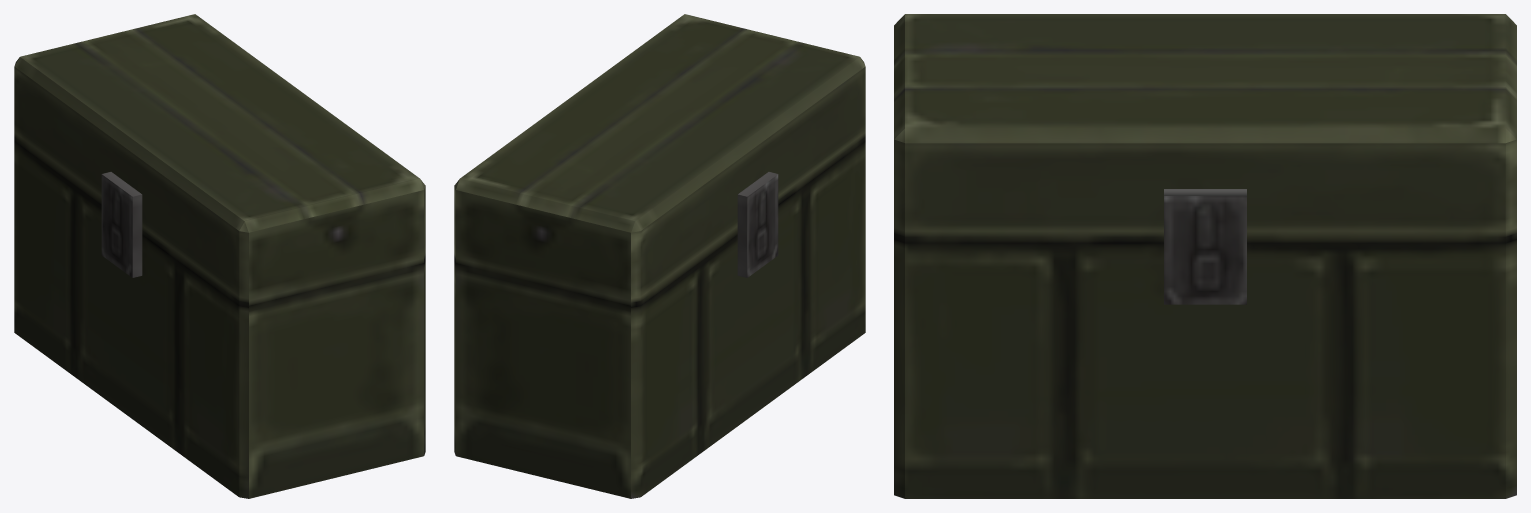
Rendered from item_ammo_box.FBX.
3 views of the same model, side by side, from view 1: azimuth 30°, elevation 25°; view 2: azimuth 150°, elevation 25°; view 3: azimuth 270°, elevation 25° (orthographic). The views are drawn at different scales.
Visible parts, largest first — view 1: item_ammo_box; view 2: item_ammo_box; view 3: item_ammo_box.
Boxes of the visible parts, bbox=[...] form: item_ammo_box: bbox=[14, 14, 425, 498]; item_ammo_box: bbox=[454, 14, 865, 498]; item_ammo_box: bbox=[894, 14, 1516, 498].
Bounding box in the file's own units: 13.68 × 17.37 × 26.7.
